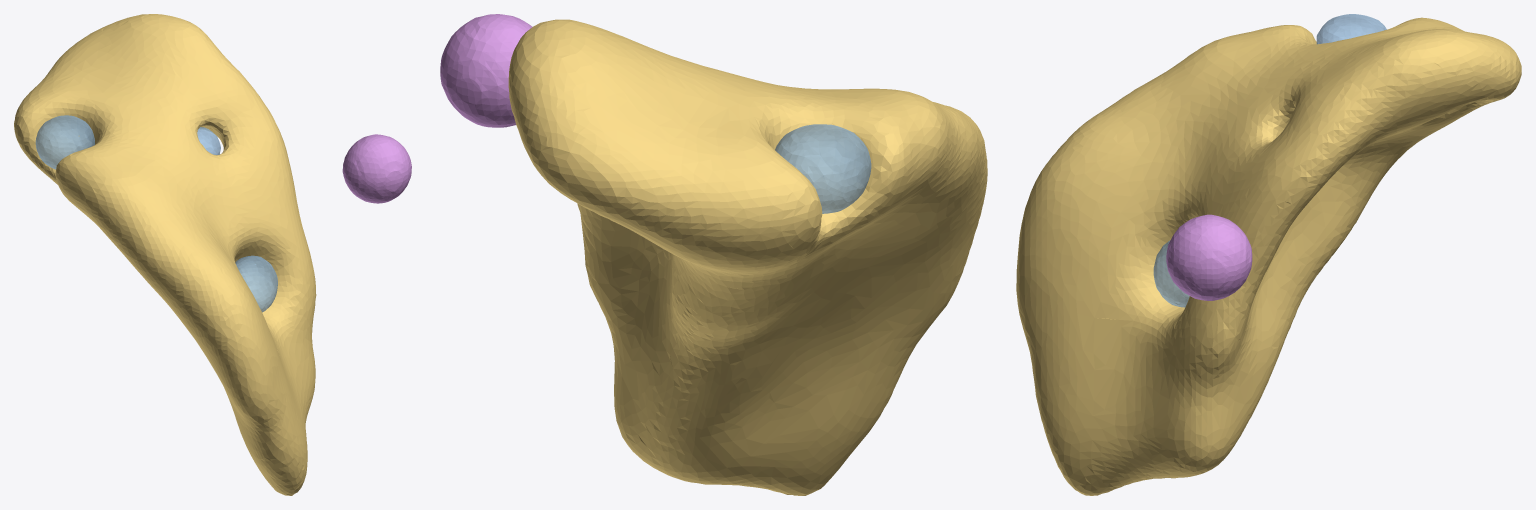
File: prompt.glb
3 renders of one model, left to right at view 1: azimuth 30°, elevation 25°; view 2: azimuth 150°, elevation 25°; view 3: azimuth 270°, elevation 25°, orthographic. The views are drawn at different scales.
Visible parts, largest first — view 1: world; view 2: world; view 3: world.
Boxes of the visible parts, x1=… form: world: x1=14, y1=14, x2=411, y2=495; world: x1=440, y1=14, x2=987, y2=495; world: x1=1016, y1=14, x2=1521, y2=495.
Size of the model in its own units: 0.6378 by 0.7256 by 0.7161.
